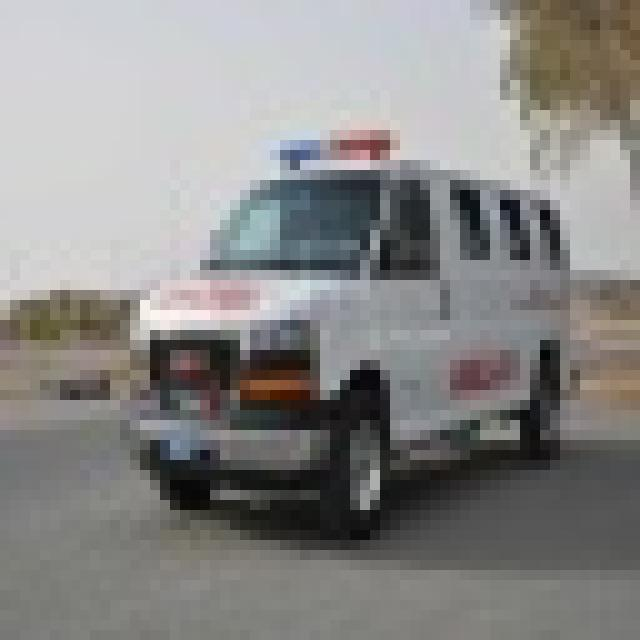Ambulance: (110, 120, 580, 530)
